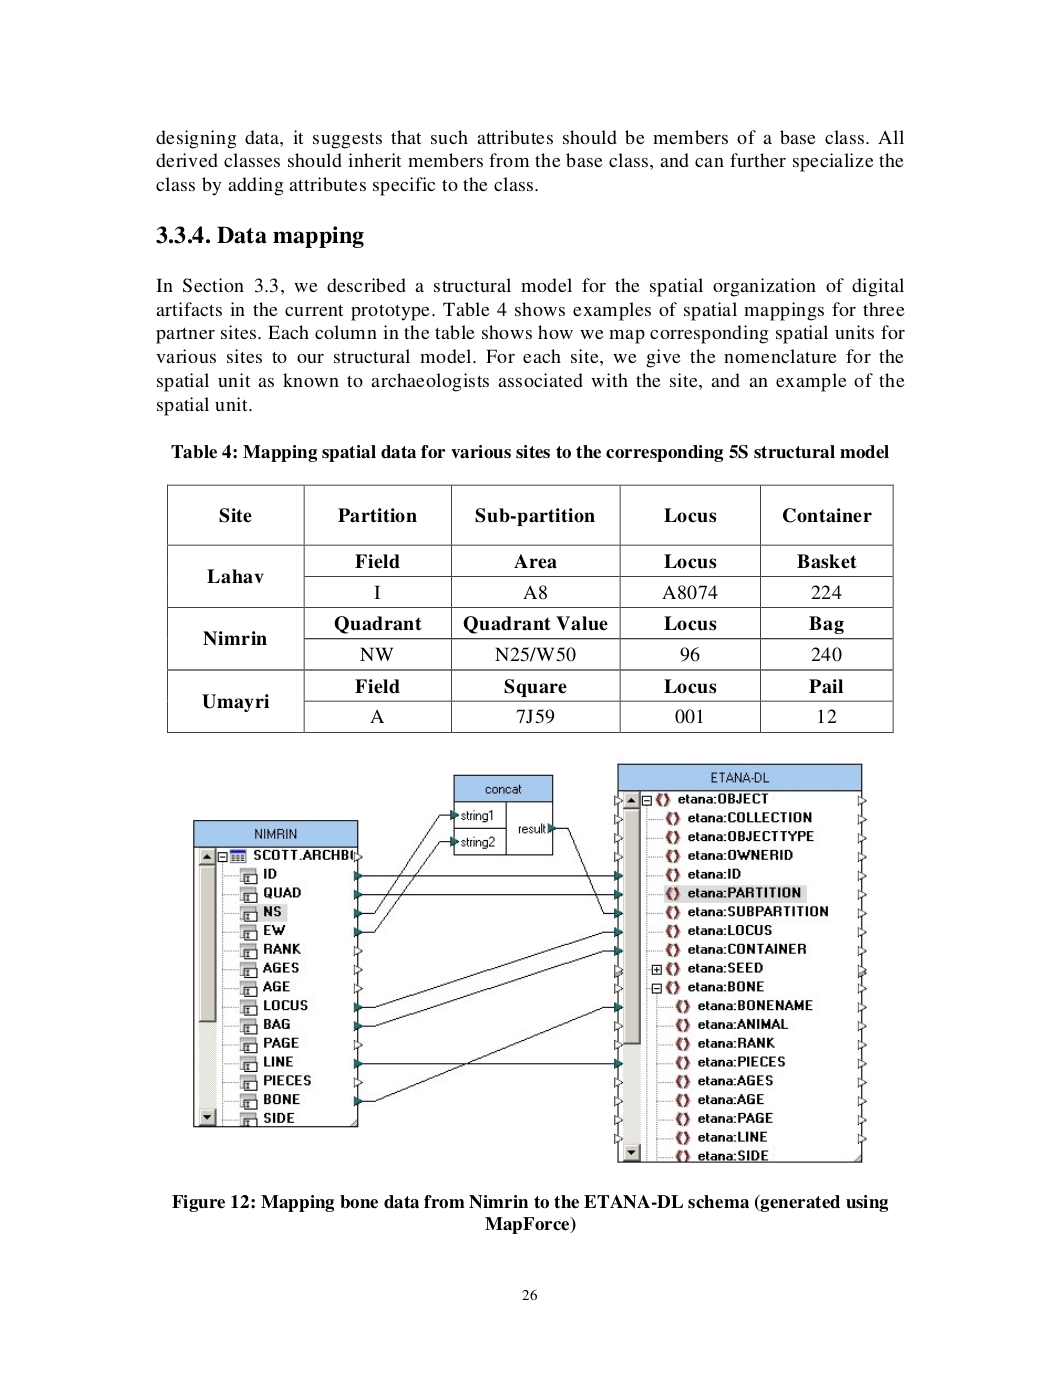Table: (167, 483, 893, 733)
figure: (193, 762, 866, 1163)
